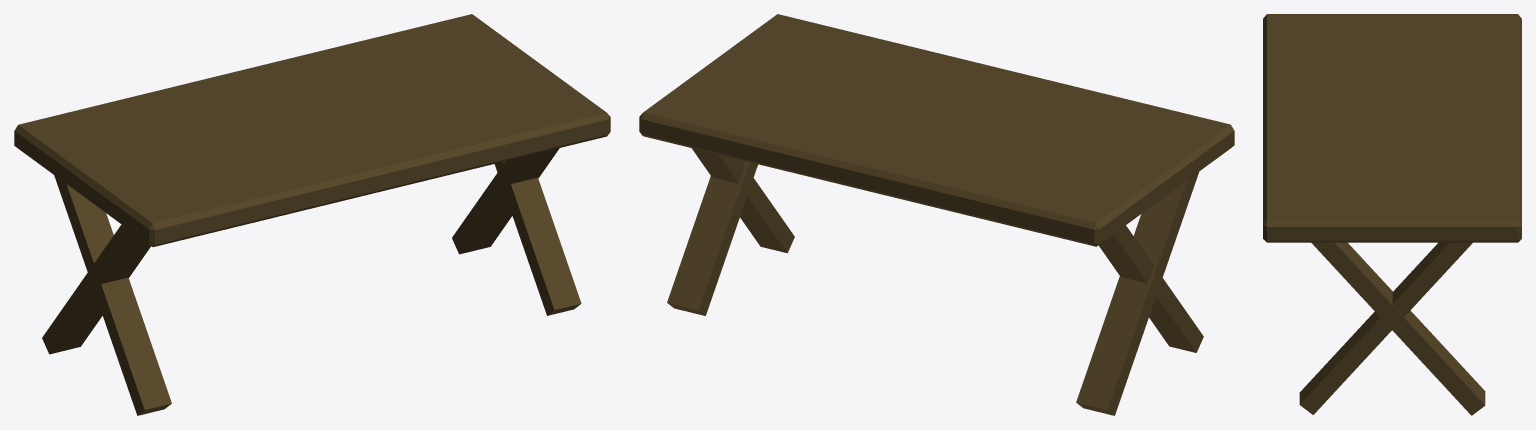
File: Table.glb
The picture shows the model from 3 angles, left to right: view 1: azimuth 30°, elevation 25°; view 2: azimuth 150°, elevation 25°; view 3: azimuth 270°, elevation 25°; orthographic projection. The views are drawn at different scales.
Visible parts, largest first — view 1: Table3; view 2: Table3; view 3: Table3.
Part boxes in pixels (x1,y1,x2,y2): Table3: (14, 14, 610, 415); Table3: (639, 14, 1234, 415); Table3: (1263, 14, 1521, 415).
Bounding box in the file's own units: 2.13 × 0.9411 × 1.11.
